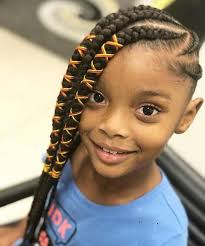person: (68, 3, 205, 182)
